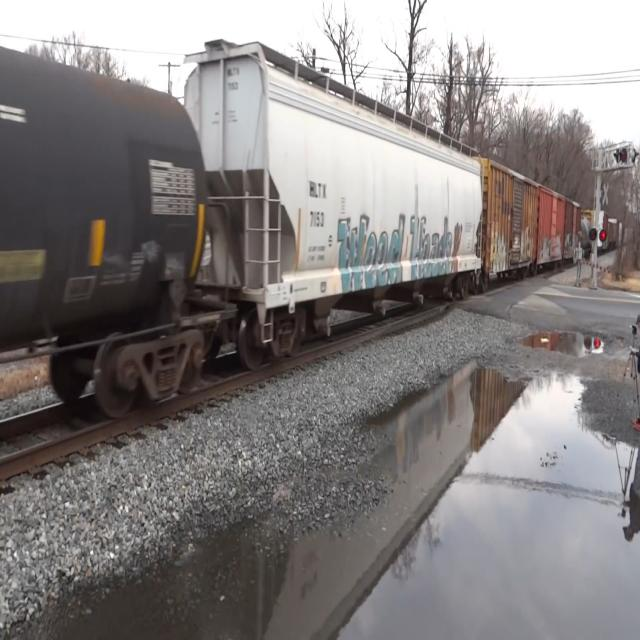boxcar: (484, 150, 540, 288)
hopper: (166, 38, 485, 375)
tank: (0, 31, 222, 452)
